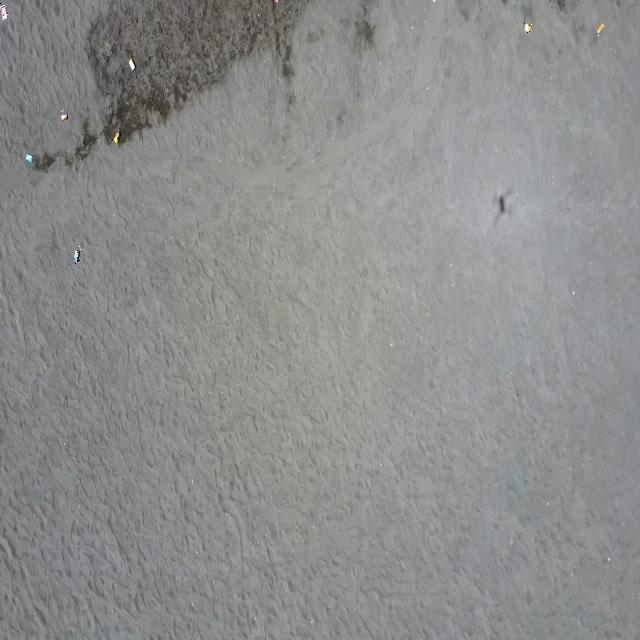Garbage: (72, 246, 80, 263), (112, 128, 120, 143), (0, 4, 7, 20), (596, 22, 604, 35), (128, 57, 135, 71), (524, 22, 532, 32), (24, 154, 32, 163), (60, 111, 67, 120), (272, 0, 276, 4)
